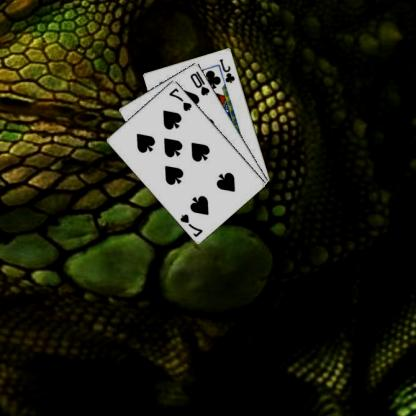10S: (189, 68, 213, 96)
7S: (168, 85, 195, 112), (180, 211, 206, 238)
JC: (219, 56, 238, 84)
